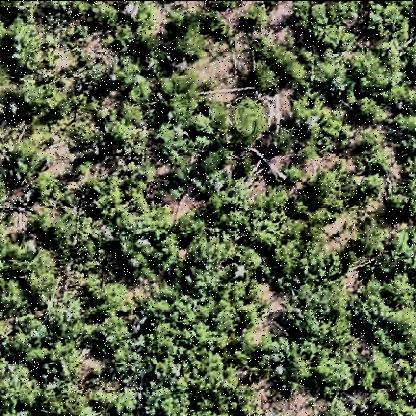tree-top: (155, 74, 228, 174), (364, 346, 416, 416), (117, 222, 181, 275), (286, 284, 347, 338), (291, 2, 359, 48), (205, 181, 255, 237), (16, 240, 61, 299), (225, 98, 269, 154), (311, 349, 357, 397), (353, 275, 393, 328), (85, 276, 134, 319), (2, 20, 42, 64), (347, 55, 395, 91), (74, 65, 114, 103), (171, 15, 208, 53), (310, 165, 349, 199), (16, 375, 48, 416), (248, 60, 282, 98), (22, 344, 58, 374), (355, 96, 387, 127)
